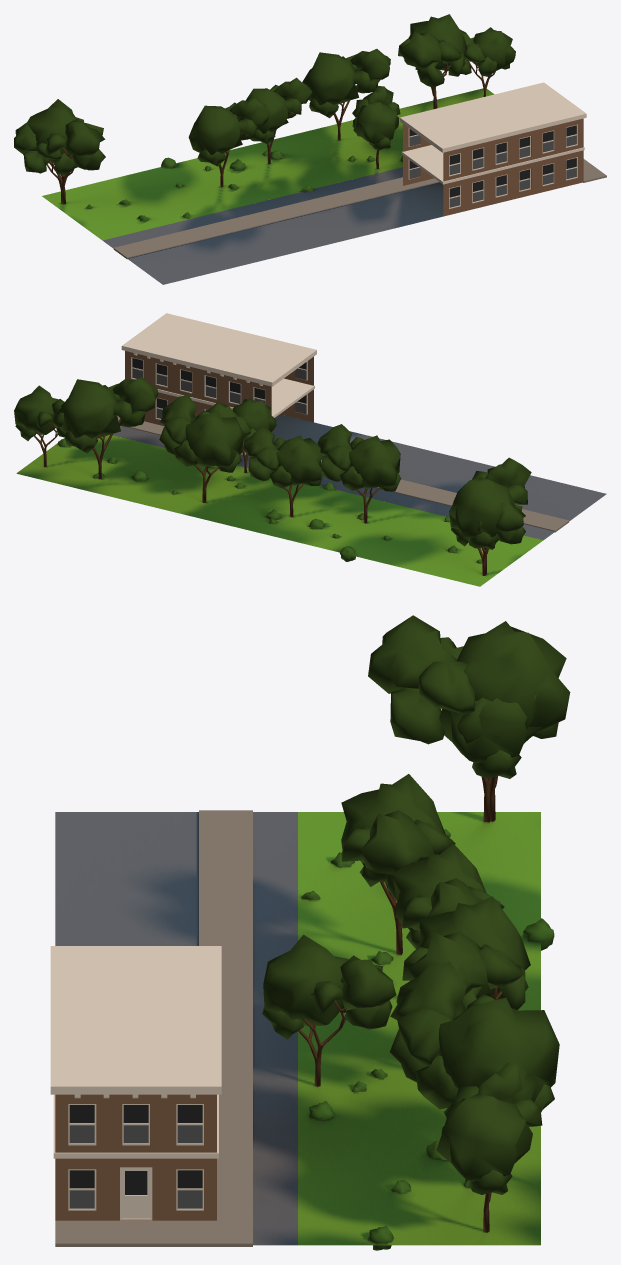
Rendered from nature_city_right1.glb.
3 views of the same model, one above another, from view 1: azimuth 30°, elevation 25°; view 2: azimuth 150°, elevation 25°; view 3: azimuth 270°, elevation 25° (orthographic). The views are drawn at different scales.
Parts seen in each view (by area): view 1: ground.008, Scatter.010, smallB.004, Trottoir.007, Scatter.011; view 2: ground.008, Scatter.010, smallB.004, Trottoir.007, Scatter.011; view 3: ground.008, Scatter.010, smallB.004, Trottoir.007, Trottoir.008, Scatter.011.
Part boxes in pixels (x1,y1,x2,y2): ground.008: (42,88,494,284); Scatter.010: (14,14,515,204); smallB.004: (400,82,586,216); Trottoir.007: (113,177,439,259); Scatter.011: (86,150,402,221); ground.008: (16,414,606,586); Scatter.010: (14,377,531,575); smallB.004: (121,313,316,445); Trottoir.007: (118,421,569,532); Scatter.011: (58,438,482,563); ground.008: (55,812,540,1245); Scatter.010: (262,615,570,1232); smallB.004: (50,946,221,1220); Trottoir.007: (199,810,252,1220); Trottoir.008: (55,1220,252,1246); Scatter.011: (301,829,554,1250).
Bounding box in the file's own units: 62.95 × 12.82 × 28.89.
10 materials, 2 textured.
